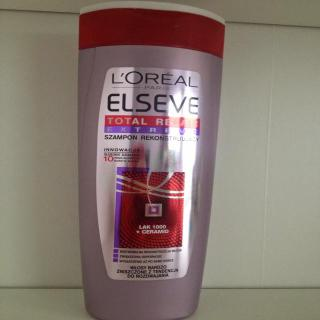Plastic-bottle: (60, 4, 229, 320)
